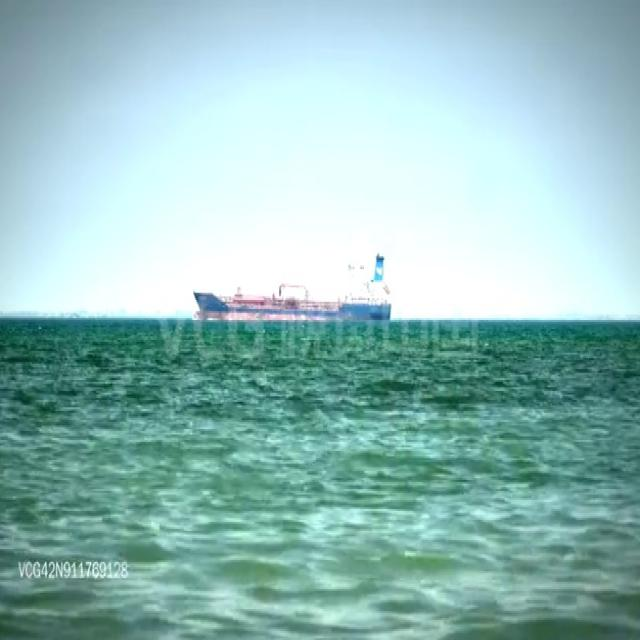cargoship: (190, 234, 390, 327)
